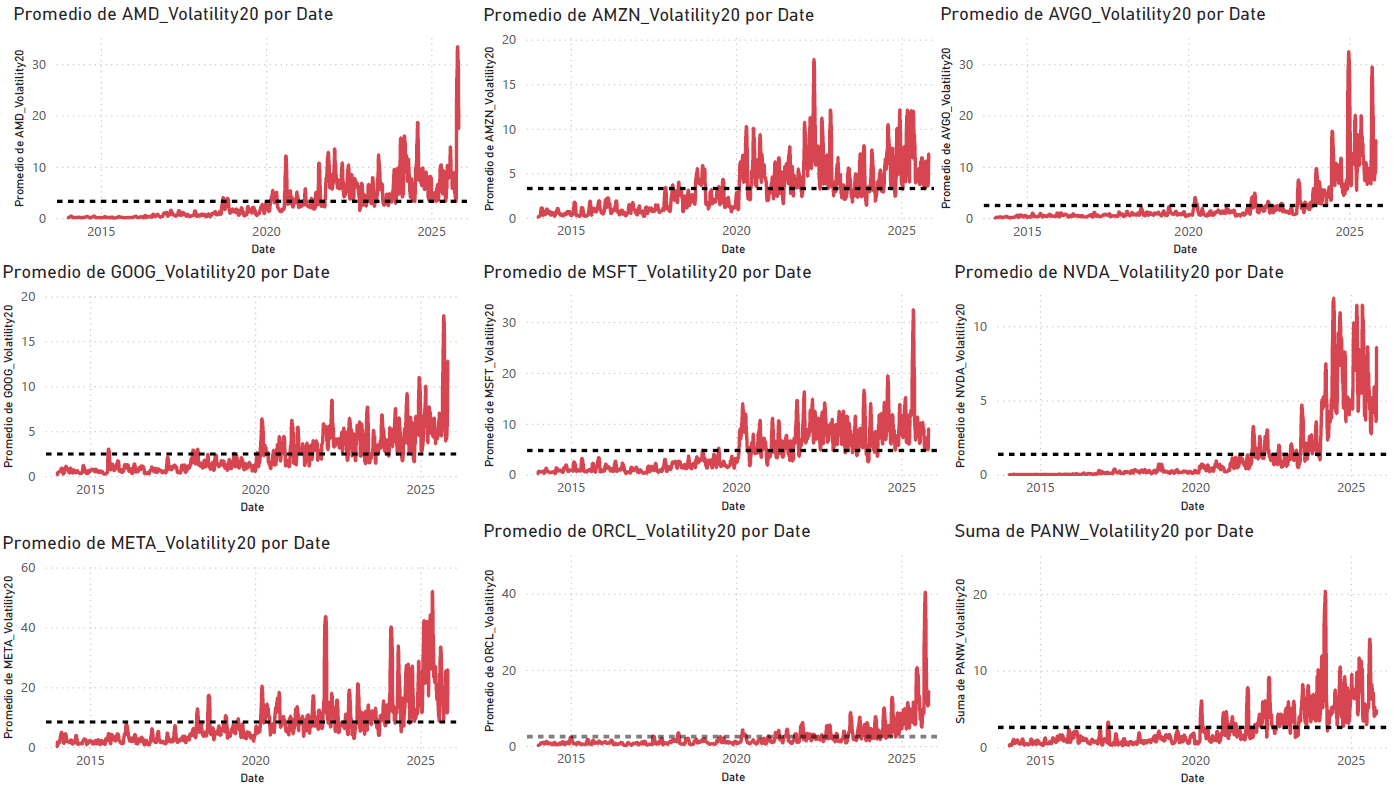

The dashboard page shown, as its layout file describes it:
{"tool":"powerbi","page":{"name":"Volatility 20 Period Stock","canvas":[1280,720],"ordinal":3},"visuals":[{"type":"lineChart","fields":{"Y":["Avg(AMD_Gold.AMD_Volatility20)"],"Category":["AMD_Gold.Date"]},"box":[10,0,430.4,236.4],"z":0},{"type":"lineChart","fields":{"Y":["Avg(AMZN_Gold.AMZN_Volatility20)"],"Category":["AMZN_Gold.Date"]},"box":[440.4,1.2,430.4,235.1],"z":1},{"type":"lineChart","fields":{"Y":["Avg(AVGO_Gold.AVGO_Volatility20)"],"Category":["AVGO_Gold.Date"]},"box":[858.3,0,421.7,236.4],"z":2},{"type":"lineChart","fields":{"Y":["Avg(GOOG_Gold.GOOG_Volatility20)"],"Category":["GOOG_Gold.Date"]},"box":[0,236.4,430.4,236.4],"z":3},{"type":"lineChart","fields":{"Y":["Avg(META_Gold.META_Volatility20)"],"Category":["META_Gold.Date"]},"box":[0,483.9,430.4,236.4],"z":4},{"type":"lineChart","fields":{"Y":["Avg(MSFT_Gold.MSFT_Volatility20)"],"Category":["MSFT_Gold.Date"]},"box":[440.4,236.4,430.4,235.1],"z":5},{"type":"lineChart","fields":{"Y":["Avg(NVDA_Gold.NVDA_Volatility20)"],"Category":["NVDA_Gold.Date"]},"box":[870.8,236.4,409.3,235.1],"z":6},{"type":"lineChart","fields":{"Y":["Avg(ORCL_Gold.ORCL_Volatility20)"],"Category":["ORCL_Gold.Date"]},"box":[440.4,472.7,430.4,246.3],"z":7},{"type":"lineChart","fields":{"Y":["Sum(PANW_Gold.PANW_Volatility20)"],"Category":["PANW_Gold.Date"]},"box":[870.8,472.7,409.3,247.5],"z":8}]}

Visuals, with their boxes in screenshot pixels (x1, y1, x2, y2), scaled from the page's 1280x720 canvas onto the 1395x792 screenshot:
lineChart - Avg(AMD_Gold.AMD_Volatility20) x AMD_Gold.Date: bbox=[11, 0, 480, 260]
lineChart - Avg(AMZN_Gold.AMZN_Volatility20) x AMZN_Gold.Date: bbox=[480, 1, 949, 260]
lineChart - Avg(AVGO_Gold.AVGO_Volatility20) x AVGO_Gold.Date: bbox=[935, 0, 1394, 260]
lineChart - Avg(GOOG_Gold.GOOG_Volatility20) x GOOG_Gold.Date: bbox=[0, 260, 469, 520]
lineChart - Avg(META_Gold.META_Volatility20) x META_Gold.Date: bbox=[0, 532, 469, 791]
lineChart - Avg(MSFT_Gold.MSFT_Volatility20) x MSFT_Gold.Date: bbox=[480, 260, 949, 519]
lineChart - Avg(NVDA_Gold.NVDA_Volatility20) x NVDA_Gold.Date: bbox=[949, 260, 1394, 519]
lineChart - Avg(ORCL_Gold.ORCL_Volatility20) x ORCL_Gold.Date: bbox=[480, 520, 949, 791]
lineChart - Sum(PANW_Gold.PANW_Volatility20) x PANW_Gold.Date: bbox=[949, 520, 1394, 791]
